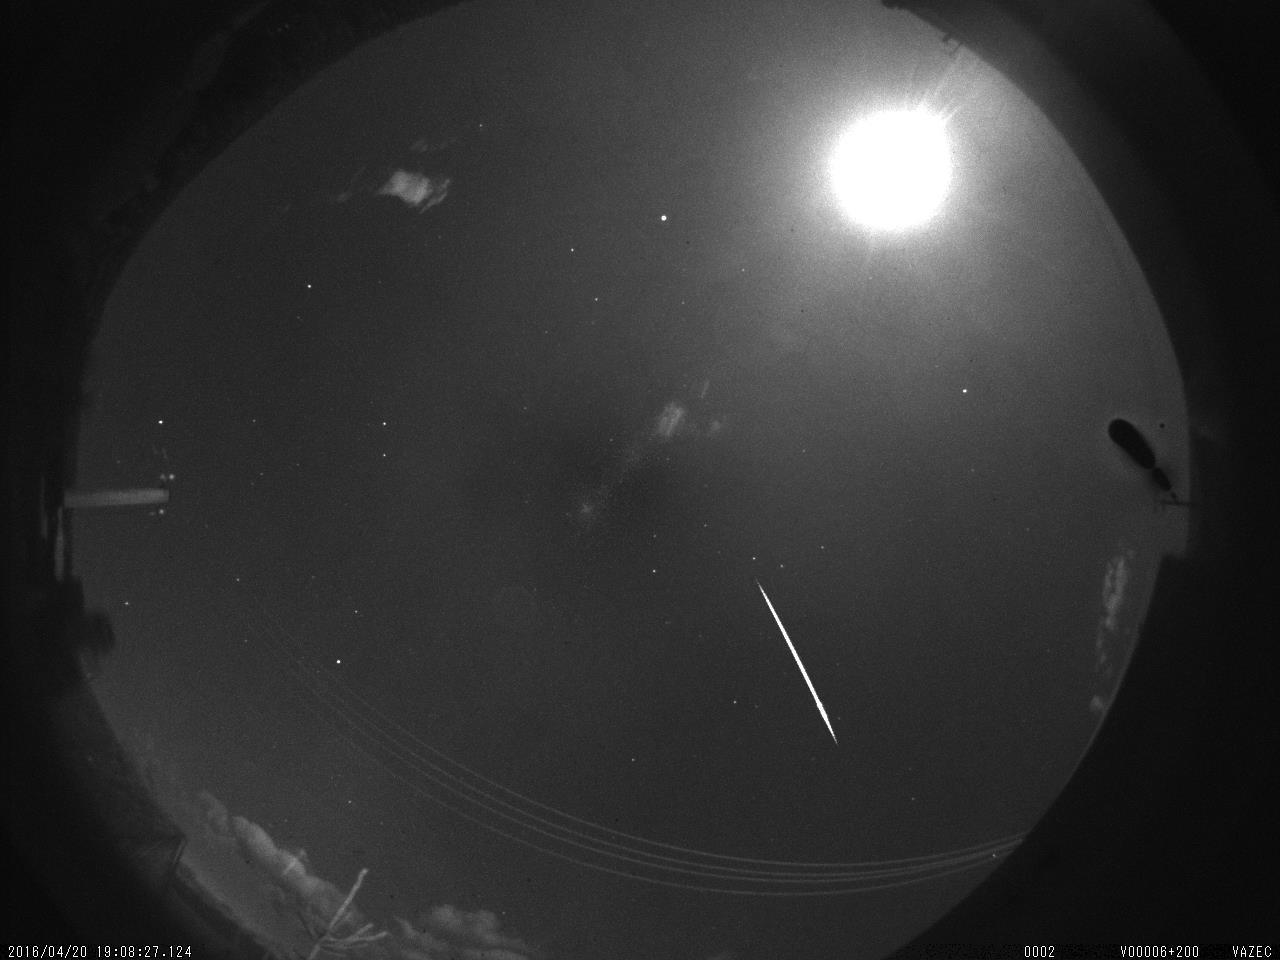Meteor: (748, 575, 853, 755)
